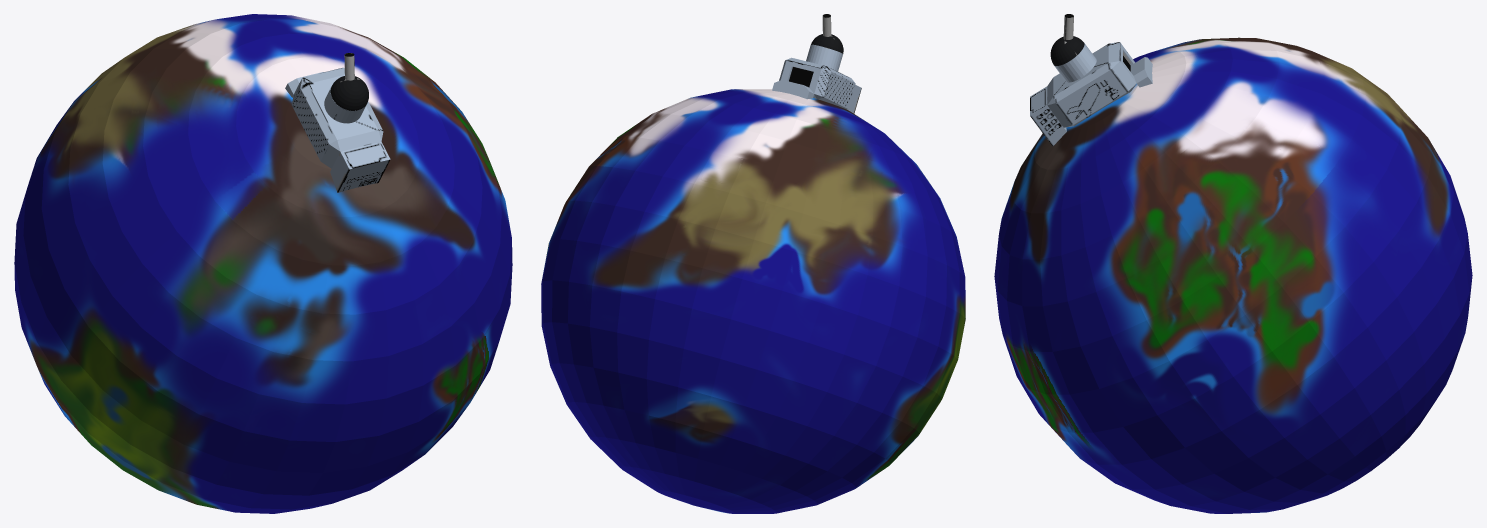
Rendered from EarthModel.fbx.
The picture shows the model from 3 angles, left to right: view 1: azimuth 30°, elevation 25°; view 2: azimuth 150°, elevation 25°; view 3: azimuth 270°, elevation 25°; orthographic projection. The views are drawn at different scales.
Visible parts, largest first — view 1: Cube; view 2: Cube; view 3: Cube.
Boxes of the visible parts, bbox=[...] form: Cube: bbox=[14, 14, 512, 513]; Cube: bbox=[541, 14, 965, 513]; Cube: bbox=[994, 14, 1472, 513].
Size of the model in its own units: 2 by 2 by 2.2.
